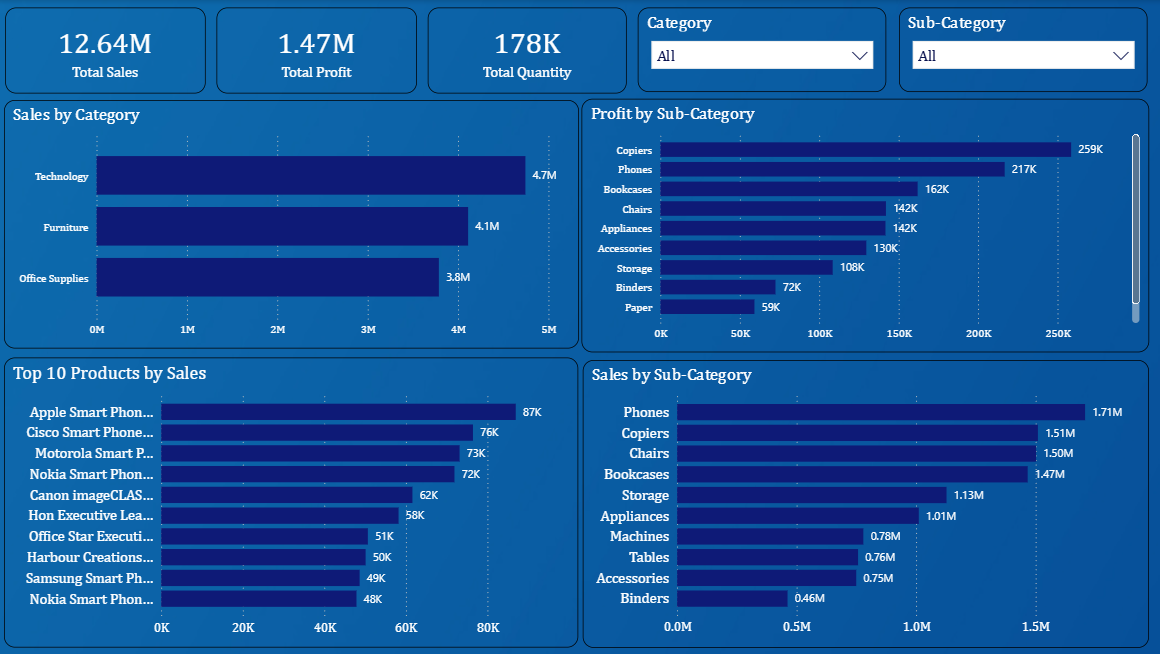

What the dashboard file says about the page in this screenshot:
{"tool":"powerbi","page":{"name":"Product Analysis","canvas":[1280,720],"ordinal":1},"visuals":[{"type":"card","fields":{"Values":["SuperStoreOrders.Total Sales"]},"box":[7.1,8.6,220,94.3],"z":0},{"type":"card","fields":{"Values":["SuperStoreOrders.Total Profit"]},"box":[238.6,8.6,220,94.3],"z":1000},{"type":"card","fields":{"Values":["SuperStoreOrders.Total Quantity"]},"box":[470,8.6,218.6,94.3],"z":2000},{"type":"clusteredBarChart","title":"Sales by Category","fields":{"Category":["SuperStoreOrders.category"],"Y":["SuperStoreOrders.Total Sales"]},"box":[5,109.2,631.4,272.9],"z":3000},{"type":"clusteredBarChart","title":"Profit by Sub-Category","fields":{"Category":["SuperStoreOrders.Sub-Category"],"Y":["SuperStoreOrders.Total Profit"]},"box":[640,108.6,622.9,278.6],"z":4000},{"type":"clusteredBarChart","title":"Sales by Sub-Category","fields":{"Category":["SuperStoreOrders.Sub-Category"],"Y":["SuperStoreOrders.Total Sales"]},"box":[641.4,395.7,621.4,315.7],"z":5000},{"type":"clusteredBarChart","title":"Top 10 Products by Sales","fields":{"Category":["SuperStoreOrders.Product Name"],"Y":["SuperStoreOrders.Total Sales"]},"box":[5,392,630,318.6],"z":6000},{"type":"slicer","title":"Category","fields":{"Values":["SuperStoreOrders.category"]},"box":[701.4,8.6,272.9,92.9],"z":7000},{"type":"slicer","title":"Sub-Category","fields":{"Values":["SuperStoreOrders.Sub-Category"]},"box":[988.6,8.6,272.9,92.9],"z":8000}]}

Visuals, with their boxes in screenshot pixels (x1, y1, x2, y2), scaled from the page's 1280x720 canvas onto the 1160x654 screenshot:
card - SuperStoreOrders.Total Sales: <bbox>6, 8, 206, 93</bbox>
card - SuperStoreOrders.Total Profit: <bbox>216, 8, 416, 93</bbox>
card - SuperStoreOrders.Total Quantity: <bbox>426, 8, 624, 93</bbox>
"Sales by Category" clusteredBarChart: <bbox>5, 99, 577, 347</bbox>
"Profit by Sub-Category" clusteredBarChart: <bbox>580, 99, 1145, 352</bbox>
"Sales by Sub-Category" clusteredBarChart: <bbox>581, 359, 1144, 646</bbox>
"Top 10 Products by Sales" clusteredBarChart: <bbox>5, 356, 575, 645</bbox>
"Category" slicer: <bbox>636, 8, 883, 92</bbox>
"Sub-Category" slicer: <bbox>896, 8, 1143, 92</bbox>
